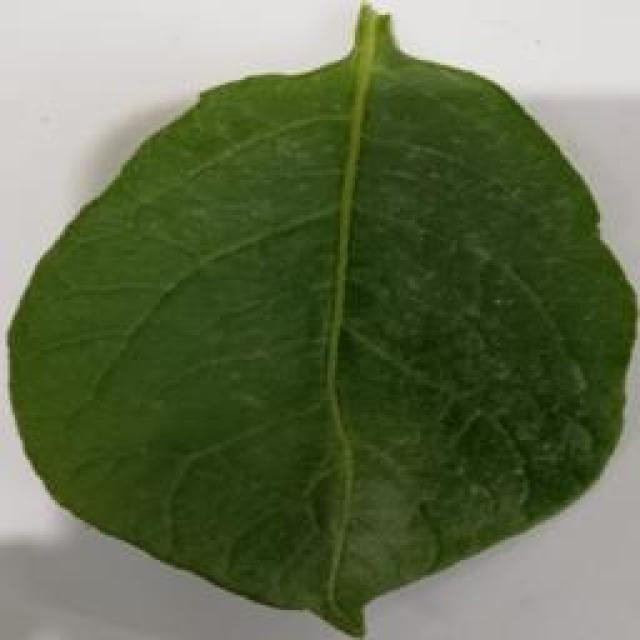Potato_Healthy: (10, 7, 626, 635)
